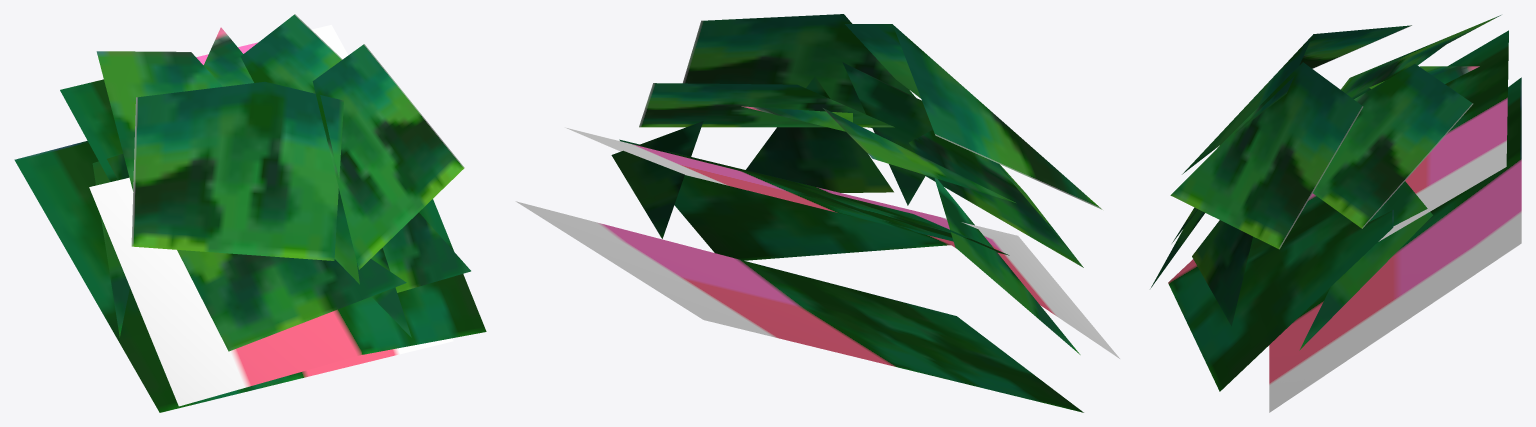
Rendered from fg_bushA_2.dae.
The picture shows the model from 3 angles, left to right: view 1: azimuth 30°, elevation 25°; view 2: azimuth 150°, elevation 25°; view 3: azimuth 270°, elevation 25°; orthographic projection. The views are drawn at different scales.
Visible parts, largest first — view 1: fg_bushA_2; view 2: fg_bushA_2; view 3: fg_bushA_2.
Part boxes in pixels (x1=…): fg_bushA_2: x1=14, y1=14, x2=486, y2=412; fg_bushA_2: x1=515, y1=14, x2=1119, y2=412; fg_bushA_2: x1=1150, y1=15, x2=1521, y2=412.
Bounding box in the file's own units: 42.31 × 33.77 × 38.68.
1 material, 1 textured.
